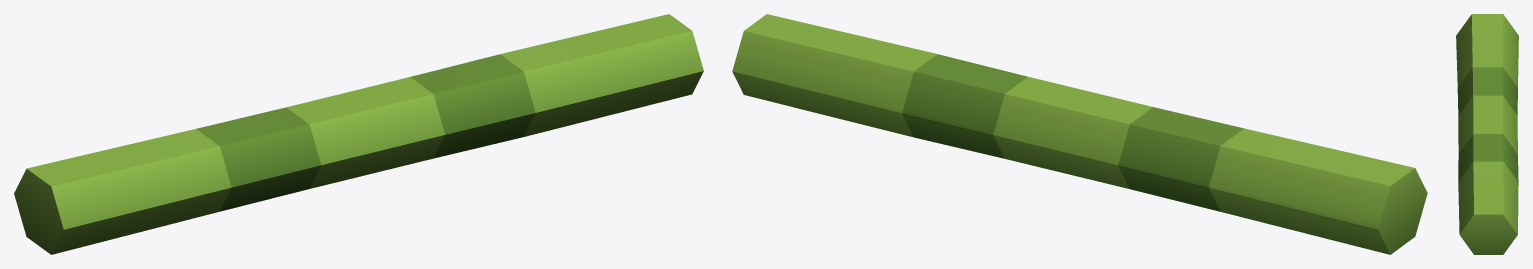
Rendered from cane.fbx.
3 views of the same model, side by side, from view 1: azimuth 30°, elevation 25°; view 2: azimuth 150°, elevation 25°; view 3: azimuth 270°, elevation 25° (orthographic). The views are drawn at different scales.
Parts seen in each view (by area): view 1: cane; view 2: cane; view 3: cane.
Part boxes in pixels (bbox=[...]): cane: bbox=[14, 14, 703, 254]; cane: bbox=[732, 14, 1427, 254]; cane: bbox=[1456, 14, 1518, 254].
Size of the model in its own units: 177 by 18 by 23.64.
1 material, 1 textured.
